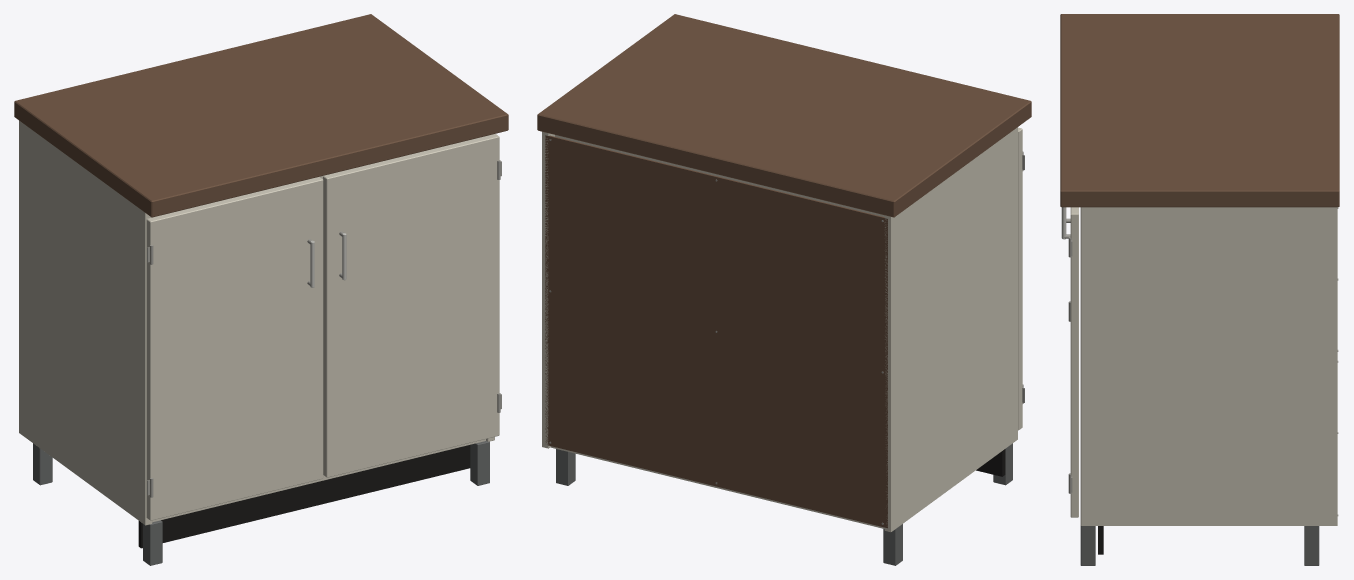
Rendered from kitchen-base-cabinet-14e0dc3c9f21.glb.
3 renders of one model, left to right at view 1: azimuth 30°, elevation 25°; view 2: azimuth 150°, elevation 25°; view 3: azimuth 270°, elevation 25°, orthographic.
Parts seen in each view (by area): view 1: enamel, wood, enamel-black, metal; view 2: wood, enamel, metal; view 3: enamel, wood, metal.
Boxes of the visible parts, x1,y1,x2,y2 form: enamel: (19,120,499,525); wood: (14,14,508,217); enamel-black: (138,445,470,548); metal: (33,440,489,565); wood: (537,14,1031,528); enamel: (542,127,1022,531); metal: (556,443,1012,565); enamel: (1070,207,1337,525); wood: (1060,14,1339,207); metal: (1080,526,1319,565).
Bounding box in the file's own units: 0.9 × 0.9 × 0.6.
